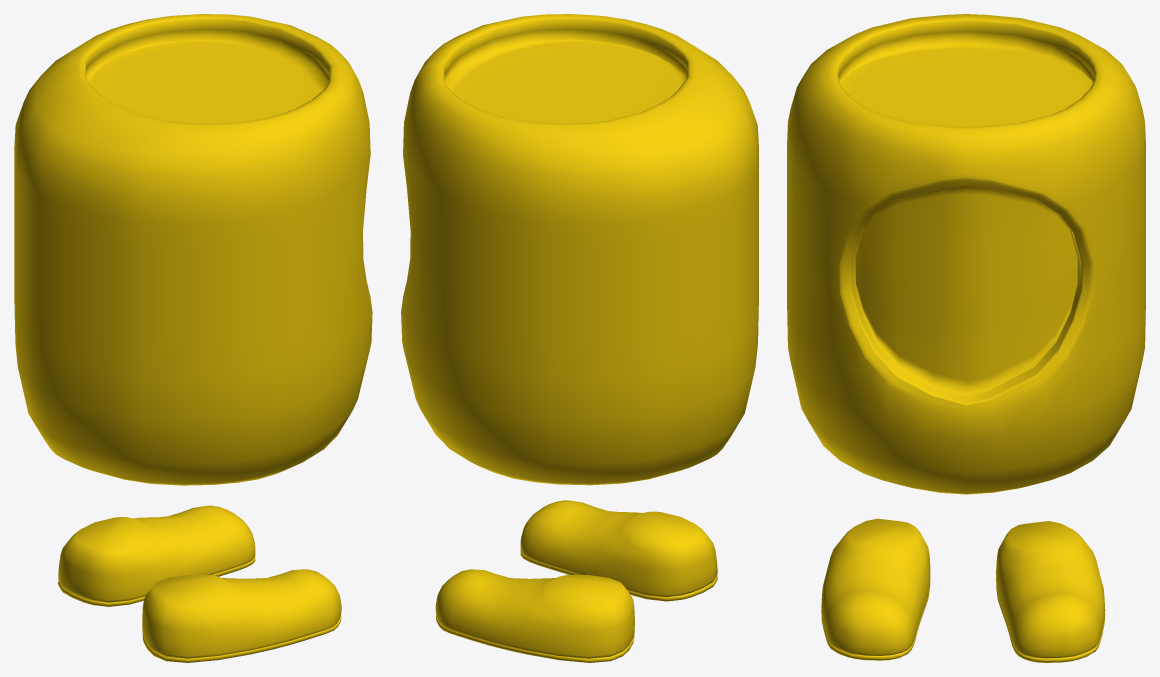
File: pot turn.fbx
3 views of the same model, side by side, from view 1: azimuth 30°, elevation 25°; view 2: azimuth 150°, elevation 25°; view 3: azimuth 270°, elevation 25° (orthographic). The views are drawn at different scales.
Visible parts, largest first — view 1: pot; view 2: pot; view 3: pot.
Boxes of the visible parts, <box> form: pot: <box>14,14,372,662</box>; pot: <box>401,14,758,662</box>; pot: <box>787,14,1145,662</box>.
Size of the model in its own units: 58.79 by 94.35 by 55.71.
